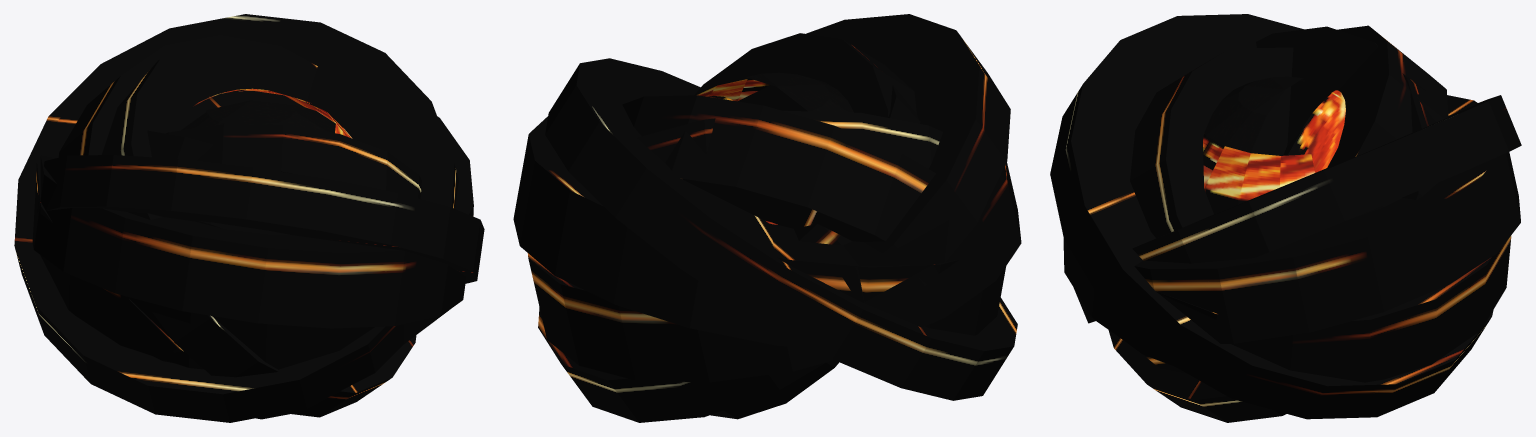
Rendered from frame_090.obj.
3 views of the same model, side by side, from view 1: azimuth 30°, elevation 25°; view 2: azimuth 150°, elevation 25°; view 3: azimuth 270°, elevation 25° (orthographic). The views are drawn at different scales.
Parts seen in each view (by area): view 1: cylinder, sphere; view 2: cylinder, sphere; view 3: cylinder, sphere.
Part boxes in pixels (left/top/right/bottom): cylinder: left=14, top=14, right=484, bottom=422; sphere: left=181, top=88, right=352, bottom=138; cylinder: left=513, top=14, right=1021, bottom=422; sphere: left=697, top=72, right=853, bottom=224; cylinder: left=1050, top=14, right=1521, bottom=422; sphere: left=1203, top=76, right=1345, bottom=214.
Size of the model in its own units: 1.08 by 0.8038 by 1.08.
5 materials, 5 textured.
